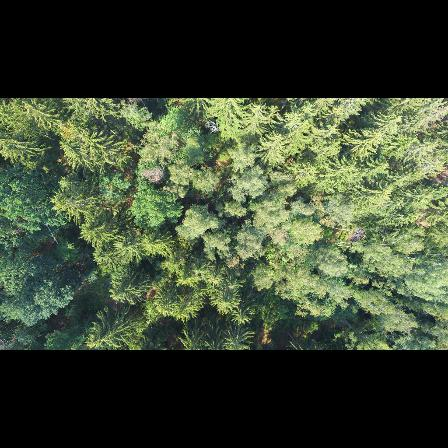Dead: (136, 164, 168, 184), (203, 119, 221, 136)
